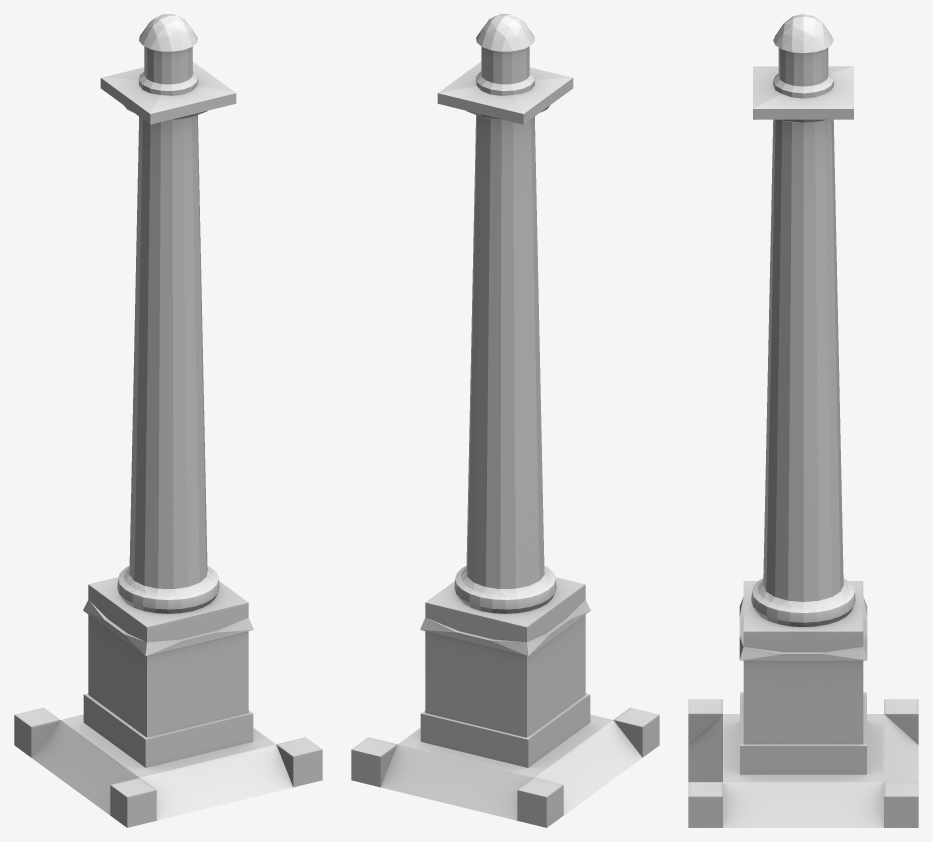
The model's file is aleksandorvskaya.dae.
3 renders of one model, left to right at view 1: azimuth 30°, elevation 25°; view 2: azimuth 150°, elevation 25°; view 3: azimuth 270°, elevation 25°, orthographic. The views are drawn at different scales.
Visible parts, largest first — view 1: aleksandorvskaya; view 2: aleksandorvskaya; view 3: aleksandorvskaya.
Boxes of the visible parts, box(x1,y1,x2,y2) form: aleksandorvskaya: box(14, 14, 322, 827); aleksandorvskaya: box(351, 14, 659, 827); aleksandorvskaya: box(688, 14, 918, 827).
Bounding box in the file's own units: 0.0153 × 0.0153 × 0.0558.
Materials: 1 (1 with a texture image).
